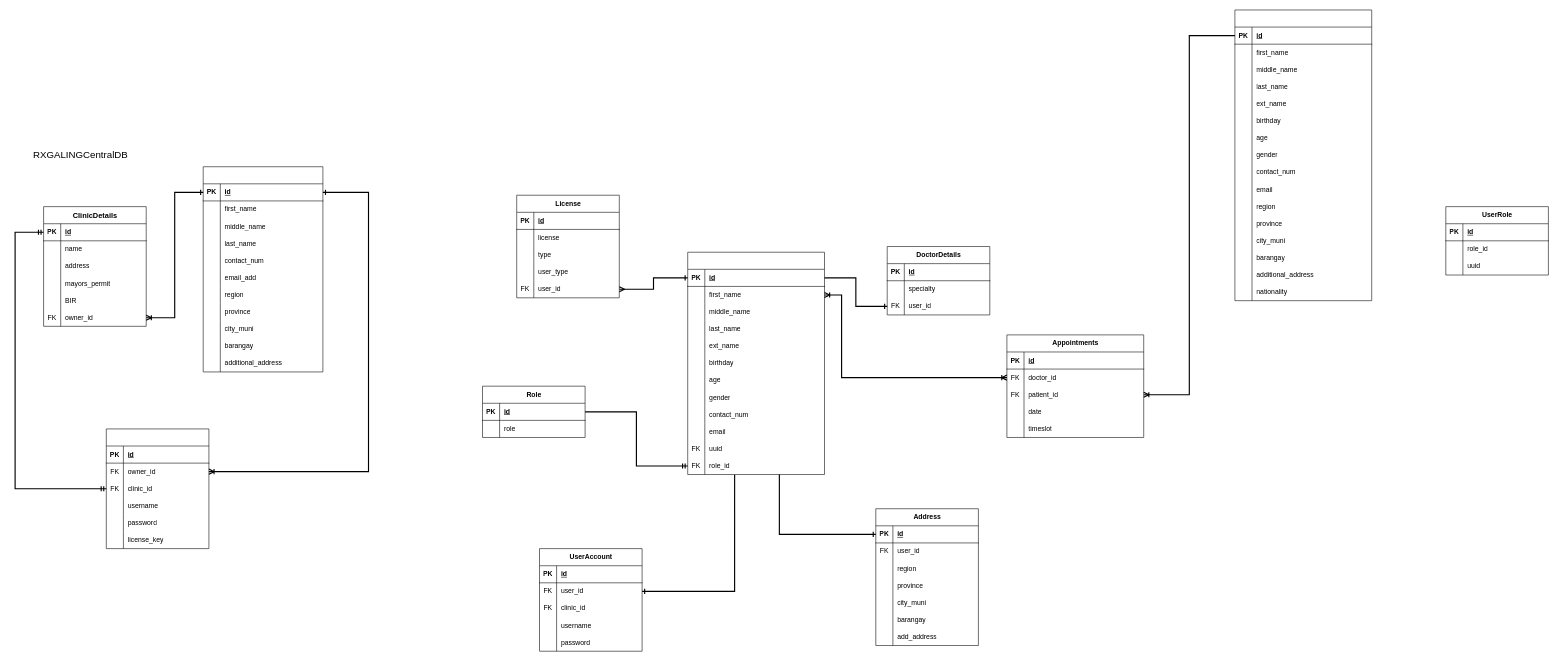
Some shapes in this 1558 by 661 pixel diagram are drawn without their labels. The box of each missing label's shape, as (x1, y1, x2, y2) in pixels:
ClinicAccount: (106, 428, 209, 549)
ClinicOwnerDetails: (203, 166, 323, 372)
PatientDetails: (1234, 9, 1372, 301)
UserDetails: (687, 252, 825, 475)
